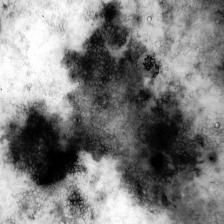Benign Marking or Mole: (0, 5, 205, 224)
